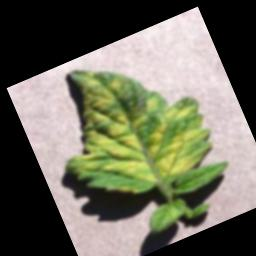Leaf_Mold: (30, 29, 223, 219)
